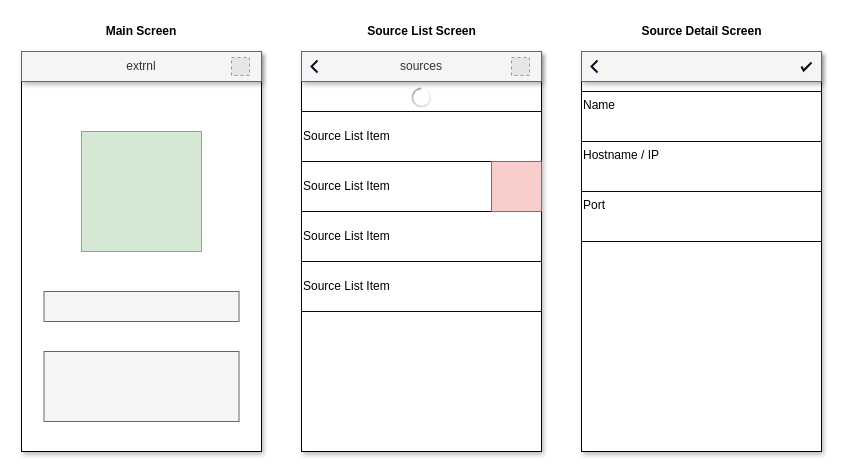
This 845x476 diagram has some shape labels left out. Grey dashed boxes stand in for pictures. The shapes that lost their labels are listed below. From the top down, each one's centre as x and y in pixels, then its label:
At (x=702, y=67): "source name".
At (x=141, y=191): "Status Indicator".
At (x=516, y=186): "Delete".
At (x=141, y=306): "Source Selector".
At (x=141, y=386): "Source Details".
